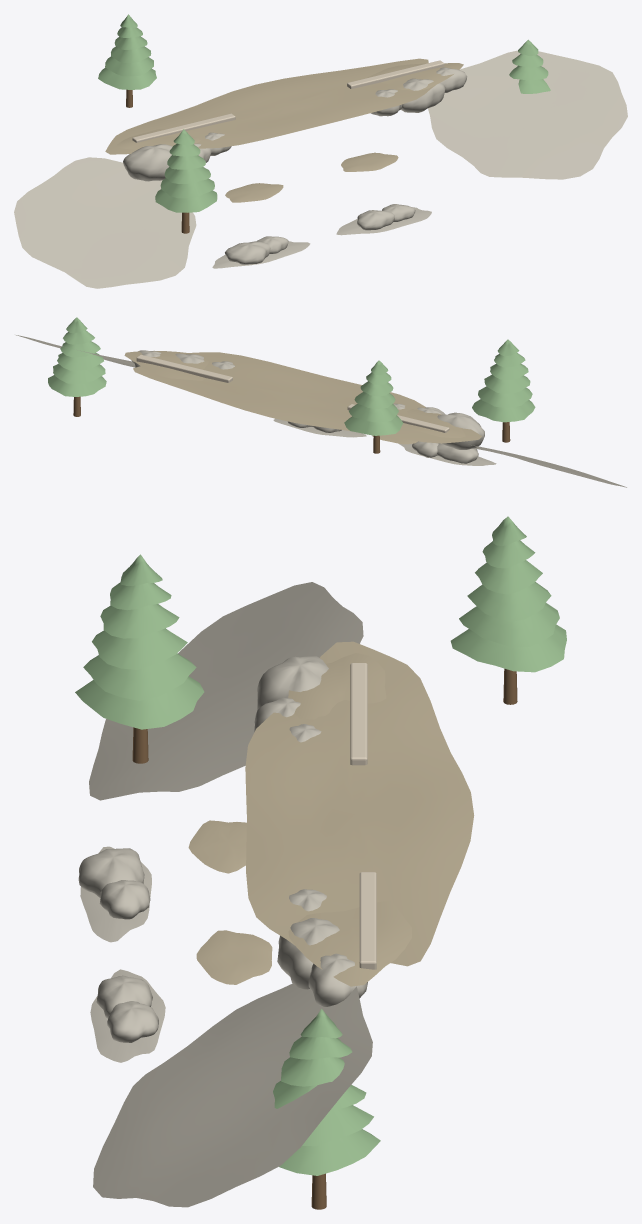
File: GoldenLocalVisualShellV3.glb
The picture shows the model from 3 angles, top to bottom: view 1: azimuth 30°, elevation 25°; view 2: azimuth 150°, elevation 25°; view 3: azimuth 270°, elevation 25°; orthographic projection. The views are drawn at different scales.
Parts seen in each view (by area): view 1: Rock_GoldenCliffApron_East, Rock_GoldenCliffApron_West, GoldenGround_HeroApron, Rock_GoldenWest_A, GoldenGround_GateEast, Rock_GoldenEast_B, Tree_GoldenLocal_ForegroundWest_Canopy_00, ShoreRock_GoldenWest_A, Tree_GoldenLocal_WestGate_Canopy_00, GoldenGround_BridgeWestShoulder, GoldenGround_BridgeEastShoulder, Tree_GoldenLocal_ForegroundWest_Canopy_01 (+13 smaller); view 2: GoldenGround_HeroApron, GoldenGround_GateEast, Tree_GoldenLocal_ForegroundWest_Canopy_00, Rock_GoldenWest_A, Tree_GoldenLocal_WestGate_Canopy_00, Tree_GoldenLocal_BridgeEast_Canopy_00, GoldenGround_GateWest, Tree_GoldenLocal_ForegroundWest_Canopy_01, GateFoundationContact_GoldenEast, Tree_GoldenLocal_BridgeEast_Canopy_01, Rock_GoldenCliffApron_West, Tree_GoldenLocal_WestGate_Canopy_01 (+14 smaller); view 3: GoldenGround_HeroApron, Rock_GoldenCliffApron_East, Rock_GoldenCliffApron_West, GoldenGround_GateEast, Tree_GoldenLocal_ForegroundWest_Canopy_00, Tree_GoldenLocal_ForegroundWest_Canopy_01, GoldenGround_BridgeEastShoulder, GoldenGround_GateWest, Tree_GoldenLocal_WestGate_Canopy_00, Tree_GoldenLocal_ForegroundWest_Canopy_02, Tree_GoldenLocal_WestGate_Canopy_01, Tree_GoldenLocal_BridgeEast_Canopy_00 (+21 smaller).
Boxes of the visible parts, <box> form: Rock_GoldenCliffApron_East: <box>428,50,627,179</box>; Rock_GoldenCliffApron_West: <box>14,157,196,288</box>; GoldenGround_HeroApron: <box>105,58,435,154</box>; Rock_GoldenWest_A: <box>123,144,172,181</box>; GoldenGround_GateEast: <box>366,63,463,90</box>; Rock_GoldenEast_B: <box>400,78,445,112</box>; Tree_GoldenLocal_ForegroundWest_Canopy_00: <box>155,189,217,212</box>; ShoreRock_GoldenWest_A: <box>225,241,270,264</box>; Tree_GoldenLocal_WestGate_Canopy_00: <box>98,67,156,89</box>; GoldenGround_BridgeWestShoulder: <box>225,183,283,202</box>; GoldenGround_BridgeEastShoulder: <box>341,152,398,171</box>; Tree_GoldenLocal_ForegroundWest_Canopy_01: <box>160,178,214,198</box>; GoldenGround_HeroApron: <box>133,352,481,443</box>; GoldenGround_GateEast: <box>124,350,208,380</box>; Tree_GoldenLocal_ForegroundWest_Canopy_00: <box>472,399,535,422</box>; Rock_GoldenWest_A: <box>437,412,484,449</box>; Tree_GoldenLocal_WestGate_Canopy_00: <box>344,415,403,435</box>; Tree_GoldenLocal_BridgeEast_Canopy_00: <box>48,375,106,396</box>; GoldenGround_GateWest: <box>407,409,465,437</box>; Tree_GoldenLocal_ForegroundWest_Canopy_01: <box>478,386,532,407</box>; GateFoundationContact_GoldenEast: <box>136,354,232,382</box>; Tree_GoldenLocal_BridgeEast_Canopy_01: <box>53,364,105,383</box>; Rock_GoldenCliffApron_West: <box>471,445,626,487</box>; Tree_GoldenLocal_WestGate_Canopy_01: <box>349,403,398,422</box>; GoldenGround_HeroApron: <box>245,641,474,966</box>; Rock_GoldenCliffApron_East: <box>93,983,372,1207</box>; Rock_GoldenCliffApron_West: <box>89,582,363,800</box>; GoldenGround_GateEast: <box>288,900,411,986</box>; Tree_GoldenLocal_ForegroundWest_Canopy_00: <box>75,676,204,729</box>; Tree_GoldenLocal_ForegroundWest_Canopy_01: <box>83,653,196,700</box>; GoldenGround_BridgeEastShoulder: <box>196,930,272,984</box>; GoldenGround_GateWest: <box>288,653,386,719</box>; Tree_GoldenLocal_WestGate_Canopy_00: <box>450,624,566,672</box>; Tree_GoldenLocal_ForegroundWest_Canopy_02: <box>92,628,187,669</box>; Tree_GoldenLocal_WestGate_Canopy_01: <box>459,603,559,647</box>; Tree_GoldenLocal_BridgeEast_Canopy_00: <box>279,1129,380,1175</box>.
Bounding box in the file's own units: 52.86 × 15.04 × 18.84.
